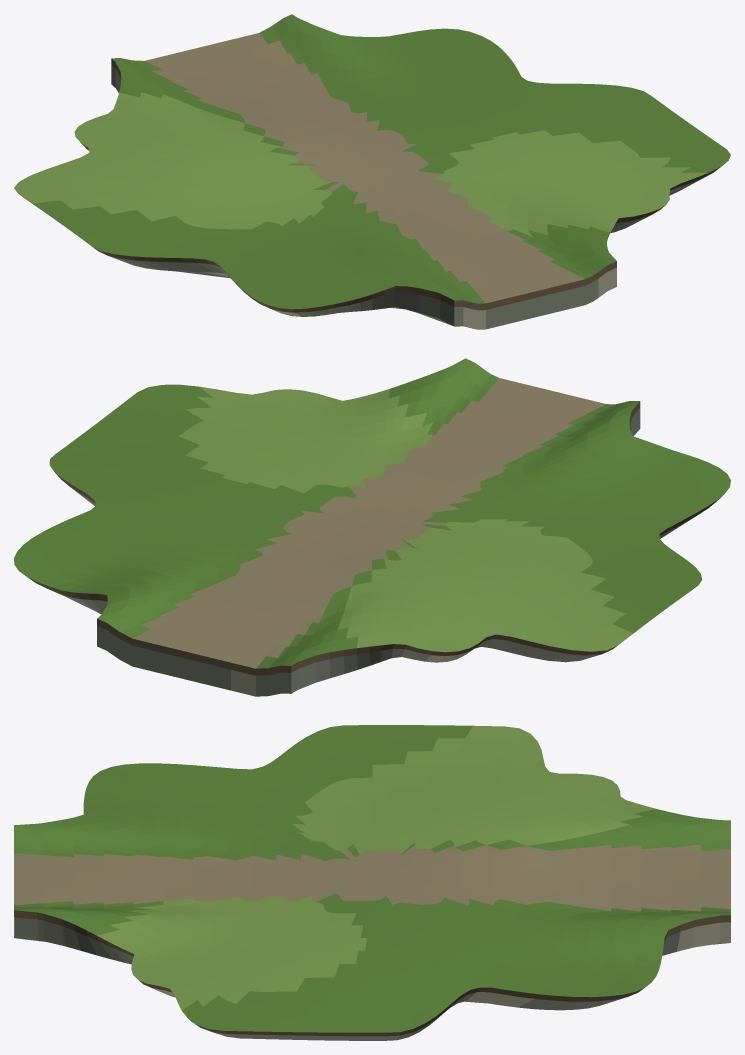
File: overgrown_causeway_gate_structure.fbx
3 renders of one model, top to bottom at view 1: azimuth 30°, elevation 25°; view 2: azimuth 150°, elevation 25°; view 3: azimuth 270°, elevation 25°, orthographic. The views are drawn at different scales.
Visible parts, largest first — view 1: chunk_overgrown_causeway_gate; view 2: chunk_overgrown_causeway_gate; view 3: chunk_overgrown_causeway_gate.
Part boxes in pixels (x1,y1,x2,y2): chunk_overgrown_causeway_gate: [14, 14, 730, 329]; chunk_overgrown_causeway_gate: [14, 358, 730, 696]; chunk_overgrown_causeway_gate: [14, 725, 730, 1040].
Bounding box in the file's own units: 256 × 43.5 × 256.
